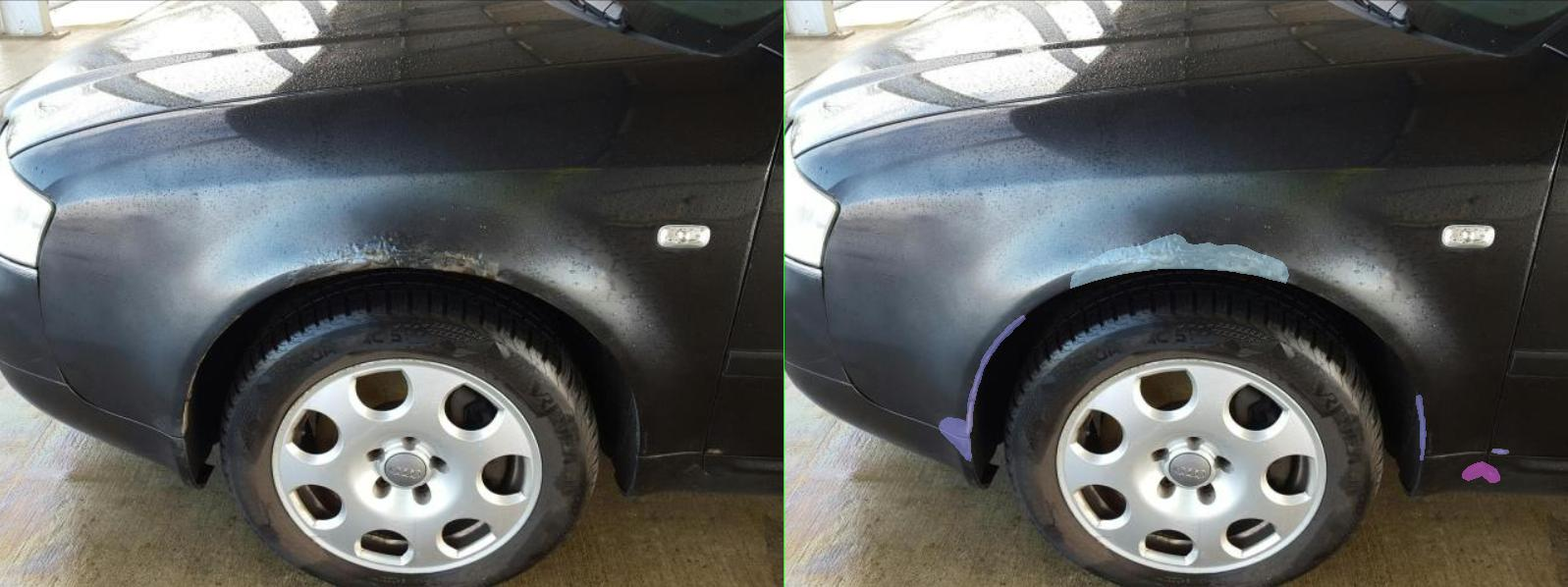Corrosion: (572, 234, 1008, 288)
Dent: (1356, 461, 1430, 482)
Scratch: (360, 315, 481, 433), (308, 417, 373, 460), (1263, 395, 1283, 459), (1415, 449, 1448, 454)
